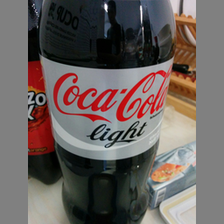soda: (37, 1, 177, 224)
